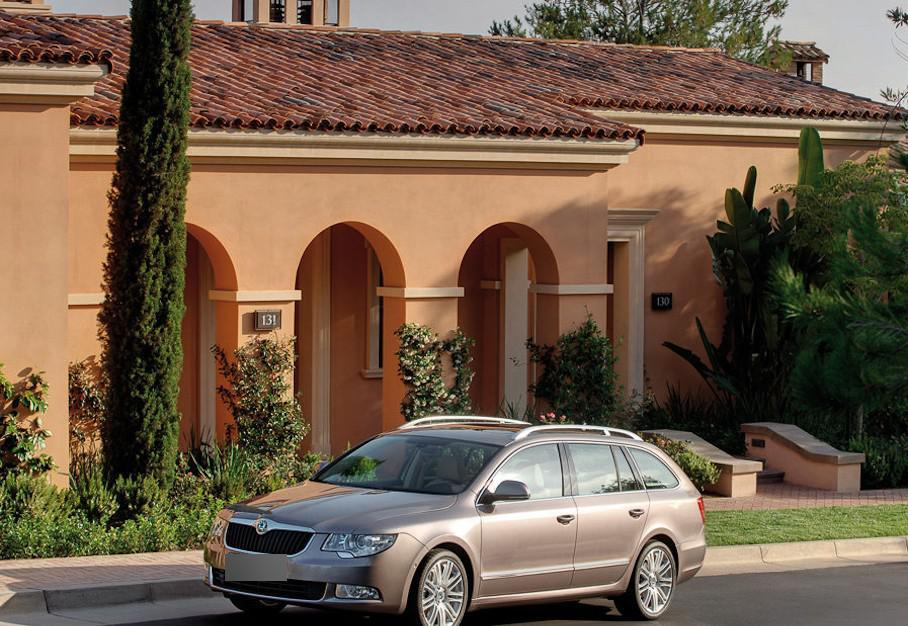Wagon: (206, 417, 706, 626)
